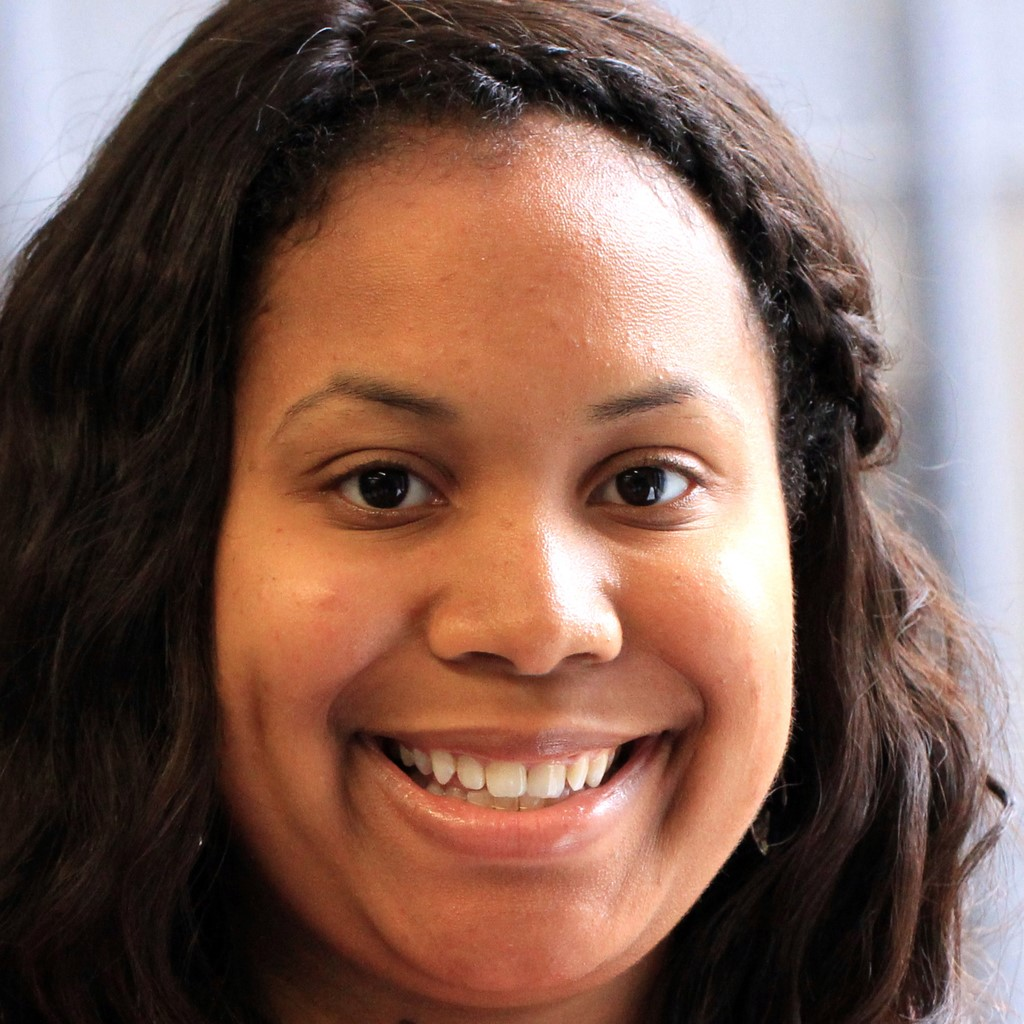sin_mascara: (199, 104, 821, 998)
